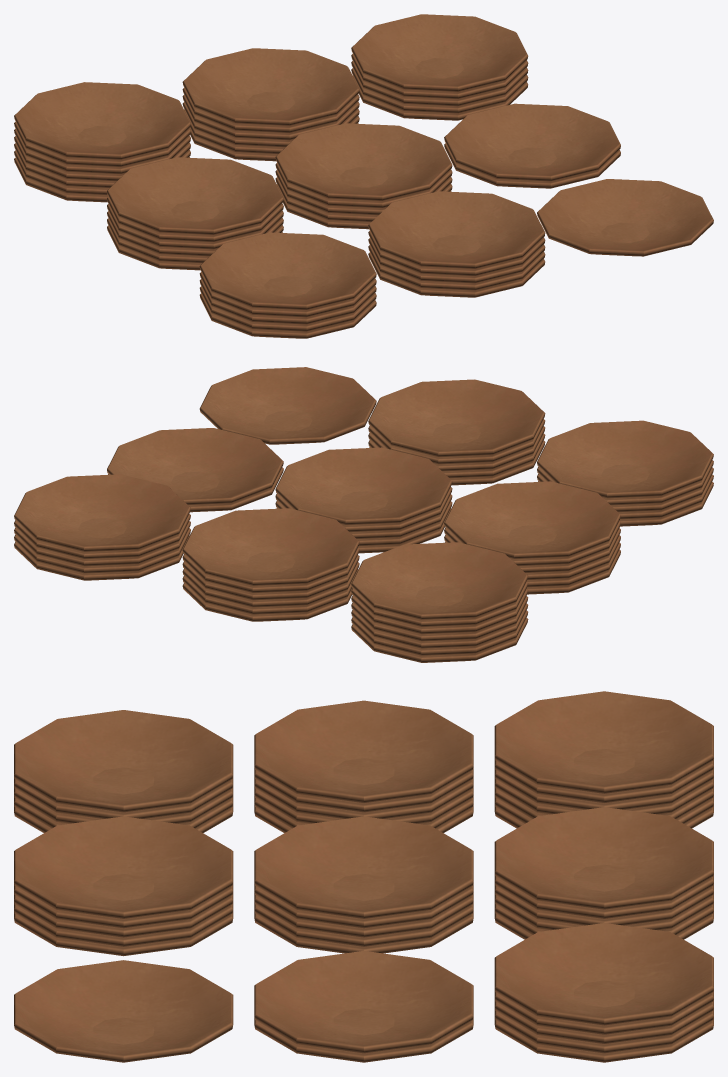
The model's file is SmallPlateGroup.fbx.
3 renders of one model, top to bottom at view 1: azimuth 30°, elevation 25°; view 2: azimuth 150°, elevation 25°; view 3: azimuth 270°, elevation 25°, orthographic. The views are drawn at different scales.
Visible parts, largest first — view 1: Smallplate18, Smallplate30, Smallplate12, Smallplate54, Smallplate6, Smallplate48, Smallplate24, Smallplate36, Smallplate58, Smallplate37, Smallplate5, Smallplate27 (+30 smaller); view 2: Smallplate36, Smallplate58, Smallplate24, Smallplate6, Smallplate48, Smallplate30, Smallplate18, Smallplate12, Smallplate54, Smallplate5, Smallplate3, Smallplate4 (+30 smaller); view 3: Smallplate24, Smallplate6, Smallplate54, Smallplate18, Smallplate30, Smallplate48, Smallplate36, Smallplate58, Smallplate12, Smallplate21, Smallplate37, Smallplate59 (+29 smaller).
Boxes of the visible parts, bbox=[...] form: Smallplate18: bbox=[199, 232, 376, 309]; Smallplate30: bbox=[275, 123, 452, 200]; Smallplate12: bbox=[107, 157, 283, 234]; Smallplate54: bbox=[444, 103, 620, 181]; Smallplate6: bbox=[14, 82, 190, 159]; Smallplate48: bbox=[537, 179, 713, 256]; Smallplate24: bbox=[368, 191, 545, 268]; Smallplate36: bbox=[182, 48, 359, 125]; Smallplate58: bbox=[351, 14, 528, 91]; Smallplate37: bbox=[182, 88, 359, 132]; Smallplate5: bbox=[14, 121, 190, 166]; Smallplate27: bbox=[368, 252, 545, 297]; Smallplate36: bbox=[182, 508, 359, 585]; Smallplate58: bbox=[14, 474, 190, 551]; Smallplate24: bbox=[368, 379, 545, 456]; Smallplate6: bbox=[351, 542, 528, 619]; Smallplate48: bbox=[199, 367, 376, 444]; Smallplate30: bbox=[275, 447, 452, 524]; Smallplate18: bbox=[537, 420, 713, 498]; Smallplate12: bbox=[444, 481, 620, 558]; Smallplate54: bbox=[107, 428, 283, 505]; Smallplate5: bbox=[351, 581, 528, 626]; Smallplate3: bbox=[351, 596, 528, 641]; Smallplate4: bbox=[351, 589, 528, 634]; Smallplate24: bbox=[14, 816, 233, 918]; Smallplate6: bbox=[494, 691, 713, 793]; Smallplate54: bbox=[254, 951, 473, 1053]; Smallplate18: bbox=[14, 710, 233, 812]; Smallplate30: bbox=[254, 816, 473, 918]; Smallplate48: bbox=[14, 960, 233, 1062]; Smallplate36: bbox=[494, 807, 713, 909]; Smallplate58: bbox=[494, 923, 713, 1025]; Smallplate12: bbox=[254, 700, 473, 802]; Smallplate21: bbox=[14, 900, 233, 946]; Smallplate37: bbox=[494, 872, 713, 918]; Smallplate59: bbox=[494, 988, 713, 1034].
Size of the model in its own units: 23.68 by 2.98 by 22.56.
